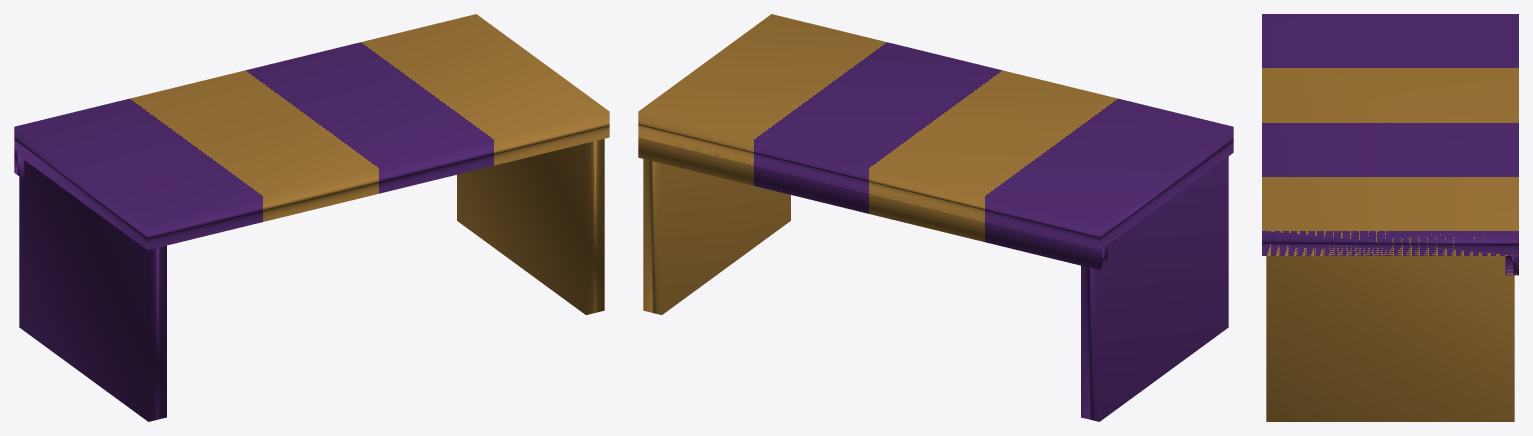
Rendered from SM_Env_CairoAwning_A_LOD1.obj.
The picture shows the model from 3 angles, left to right: view 1: azimuth 30°, elevation 25°; view 2: azimuth 150°, elevation 25°; view 3: azimuth 270°, elevation 25°; orthographic projection. The views are drawn at different scales.
Parts seen in each view (by area): view 1: SM_Env_CairoAwning_A_LOD1; view 2: SM_Env_CairoAwning_A_LOD1; view 3: SM_Env_CairoAwning_A_LOD1.
Part boxes in pixels (x1=…): SM_Env_CairoAwning_A_LOD1: x1=14, y1=14, x2=609, y2=421; SM_Env_CairoAwning_A_LOD1: x1=638, y1=14, x2=1233, y2=421; SM_Env_CairoAwning_A_LOD1: x1=1262, y1=14, x2=1518, y2=421.
Bounding box in the file's own units: 3 × 1.24 × 1.5.
Materials: 1 (1 with a texture image).
